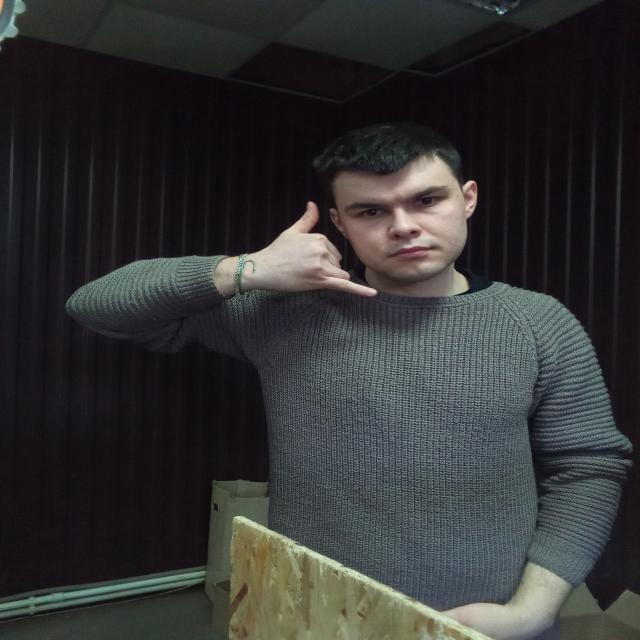call: (253, 200, 379, 299)
